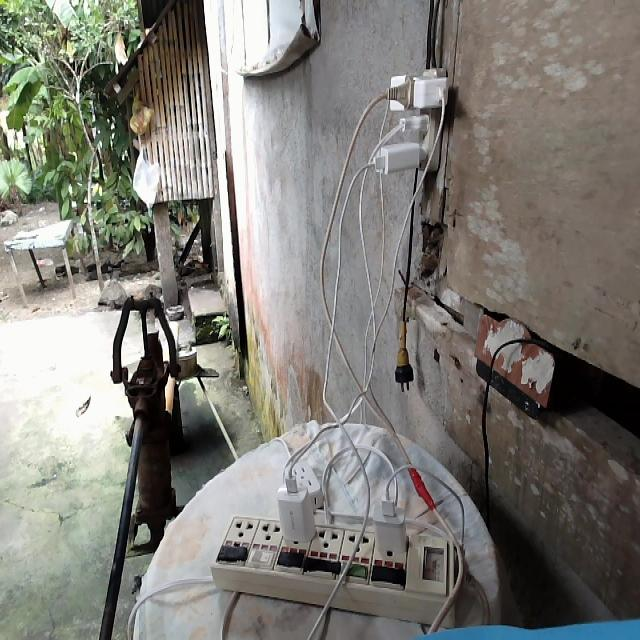-: (359, 60, 457, 179)
